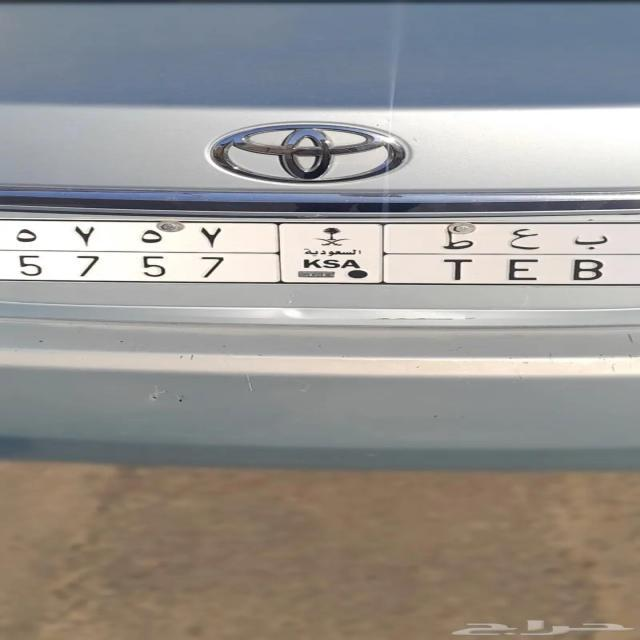license_plate: (1, 250, 634, 287)
